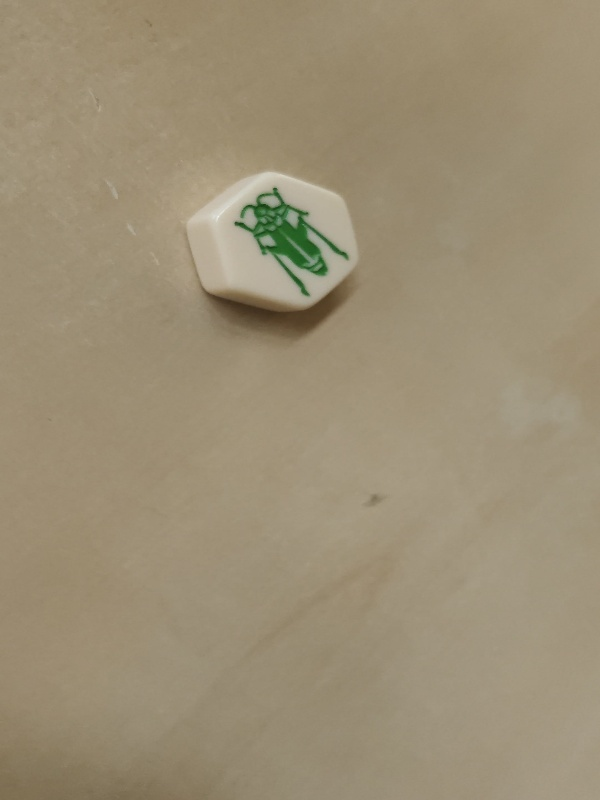white_grasshopper: (184, 171, 369, 323)
